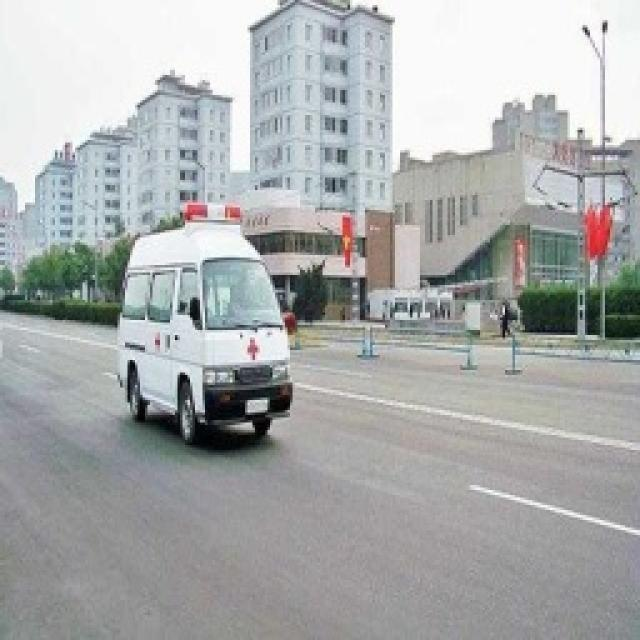emergency-vehicle: (81, 185, 412, 494)
